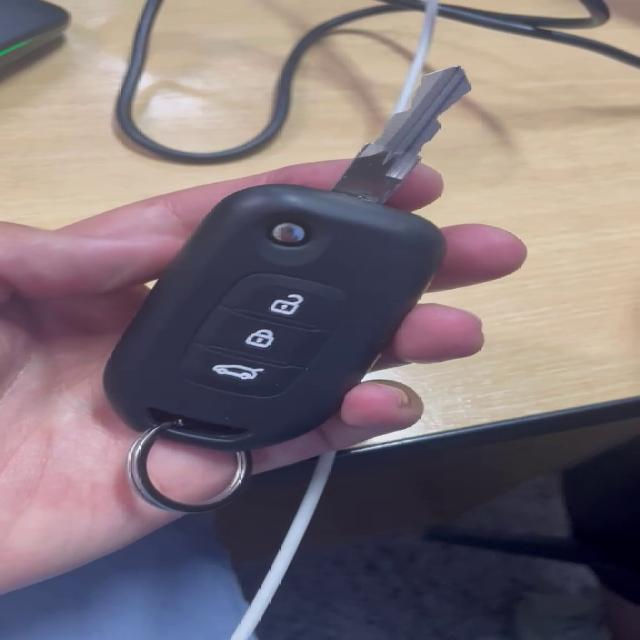llave-auto: (45, 41, 578, 534)
